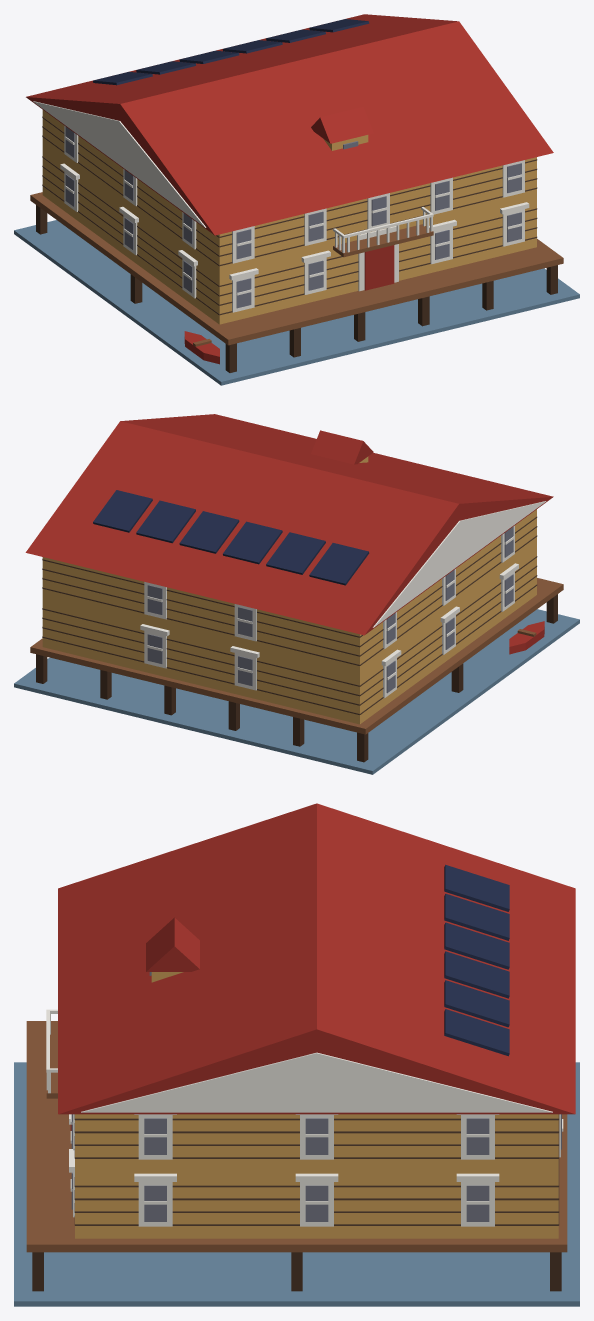
File: house-2x2-2f-palafito-a-solar.glb
3 renders of one model, top to bottom at view 1: azimuth 30°, elevation 25°; view 2: azimuth 150°, elevation 25°; view 3: azimuth 270°, elevation 25°, orthographic. The views are drawn at different scales.
Parts seen in each view (by area): view 1: house-2x2-2f-palafito-a-solar; view 2: house-2x2-2f-palafito-a-solar; view 3: house-2x2-2f-palafito-a-solar.
Part boxes in pixels (x1,y1,x2,y2): house-2x2-2f-palafito-a-solar: [14, 14, 579, 385]; house-2x2-2f-palafito-a-solar: [14, 414, 579, 774]; house-2x2-2f-palafito-a-solar: [14, 803, 579, 1306].
Bounding box in the file's own units: 1.99 × 1.05 × 1.99.
Materials: 1 (1 with a texture image).
